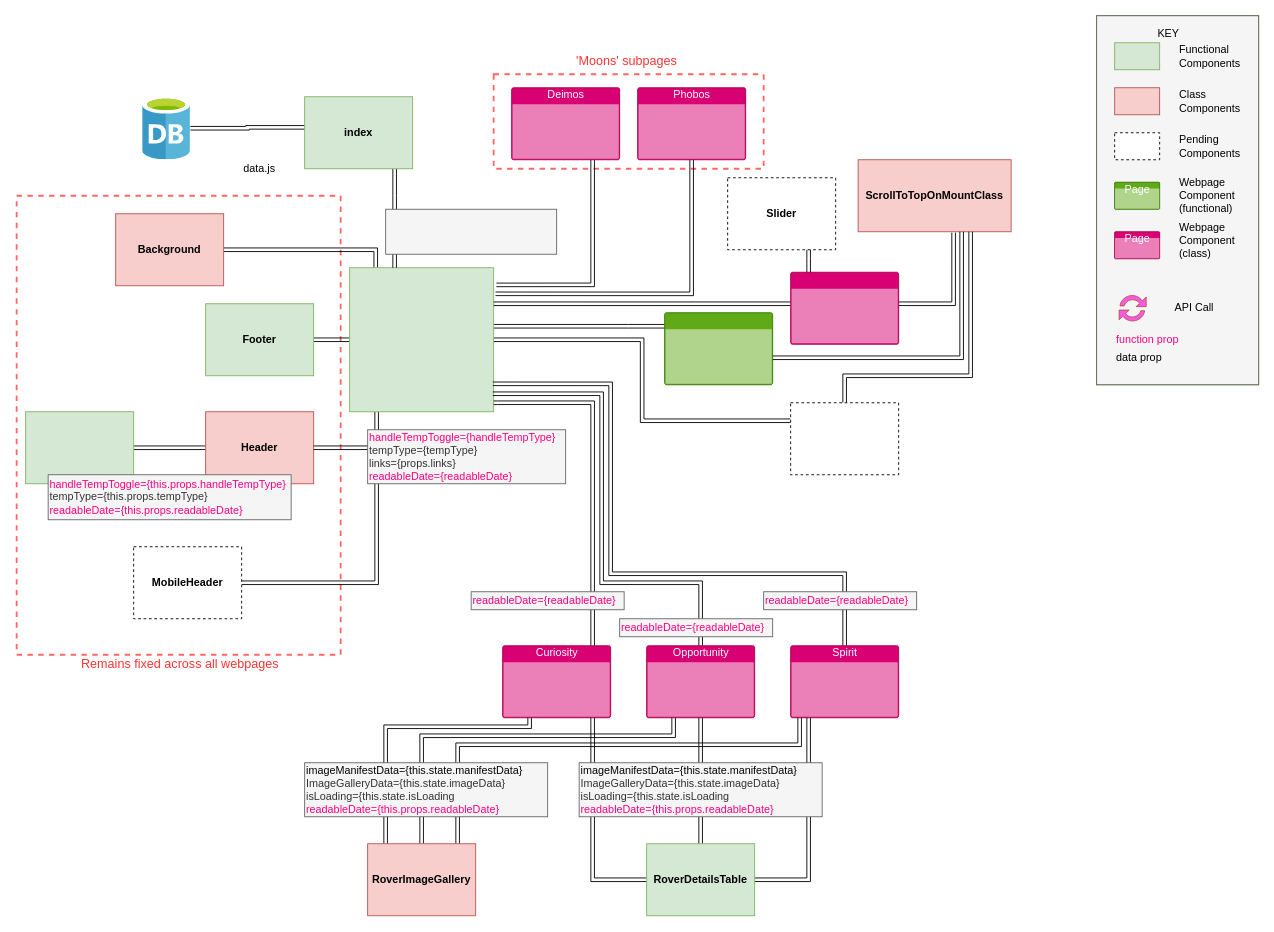
Some shapes in this 1274 by 932 pixel diagram are drawn without their labels. The box of each missing label's shape, as (x1, y1, x2, y2) in pixels:
App: (349, 267, 494, 412)
Geology: (664, 312, 773, 385)
Home: (790, 271, 899, 344)
Map: (790, 402, 899, 475)
sliderImages={data.slider_images} apiKeys={data.api_keys} links={data.links}: (385, 208, 557, 254)
WeatherWidgetSml: (25, 411, 134, 484)
